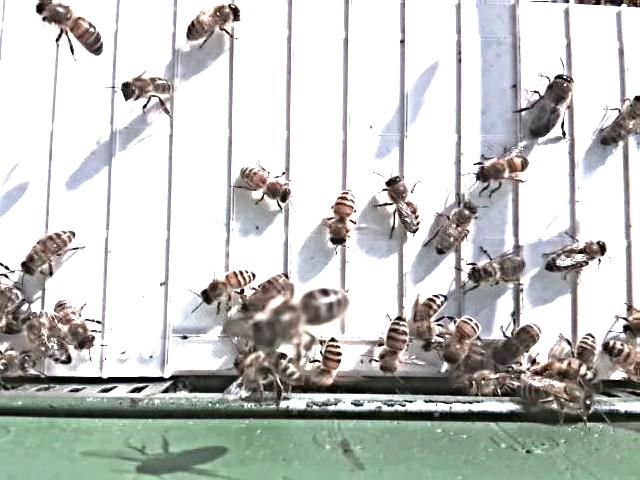Drone: (528, 67, 580, 140)
Worker: (39, 0, 108, 57), (544, 233, 614, 280), (18, 224, 81, 276), (433, 195, 481, 256), (21, 310, 73, 366), (53, 294, 101, 354), (372, 311, 414, 376), (236, 163, 298, 206), (185, 0, 245, 44), (385, 172, 426, 236), (196, 263, 260, 304), (462, 247, 528, 286), (441, 311, 485, 365), (119, 70, 178, 108), (326, 184, 361, 248), (473, 149, 534, 184), (415, 290, 449, 350), (311, 334, 346, 389)
